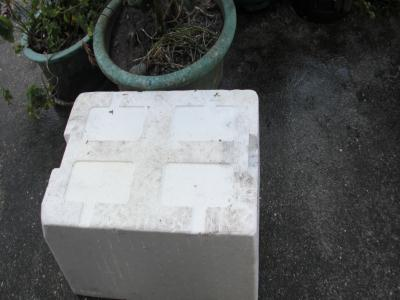styrofoam: (40, 88, 261, 300)
